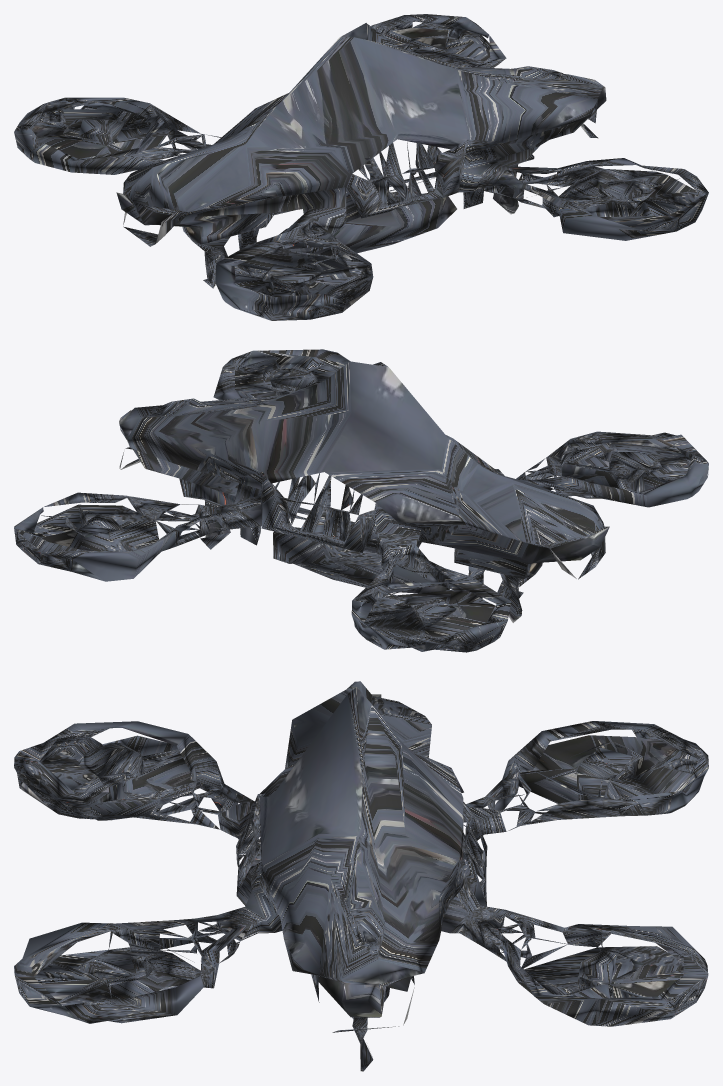
The model's file is seeker.glb.
The picture shows the model from 3 angles, top to bottom: view 1: azimuth 30°, elevation 25°; view 2: azimuth 150°, elevation 25°; view 3: azimuth 270°, elevation 25°; orthographic projection. The views are drawn at different scales.
Parts seen in each view (by area): view 1: Object_4; view 2: Object_4; view 3: Object_4.
Boxes of the visible parts, bbox=[...] form: Object_4: bbox=[14, 14, 708, 320]; Object_4: bbox=[14, 349, 708, 652]; Object_4: bbox=[14, 681, 708, 1071].
Size of the model in its own units: 0.9892 by 0.4466 by 0.998.
1 material, 1 textured.
